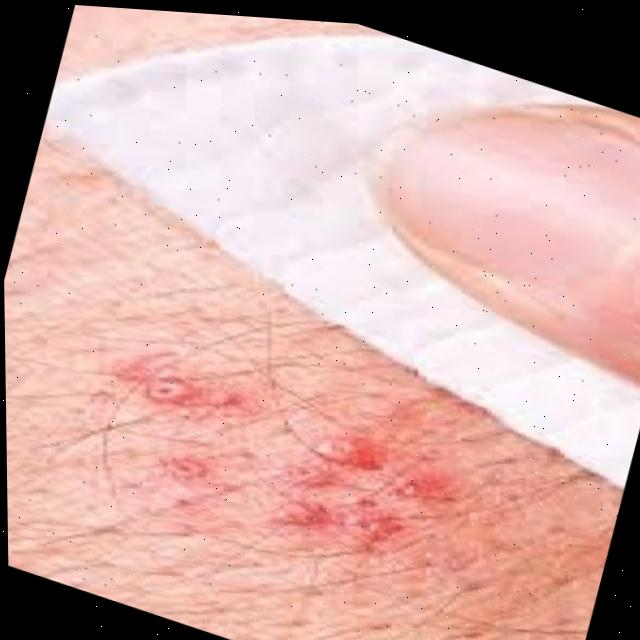Shingles: (115, 353, 454, 571)
